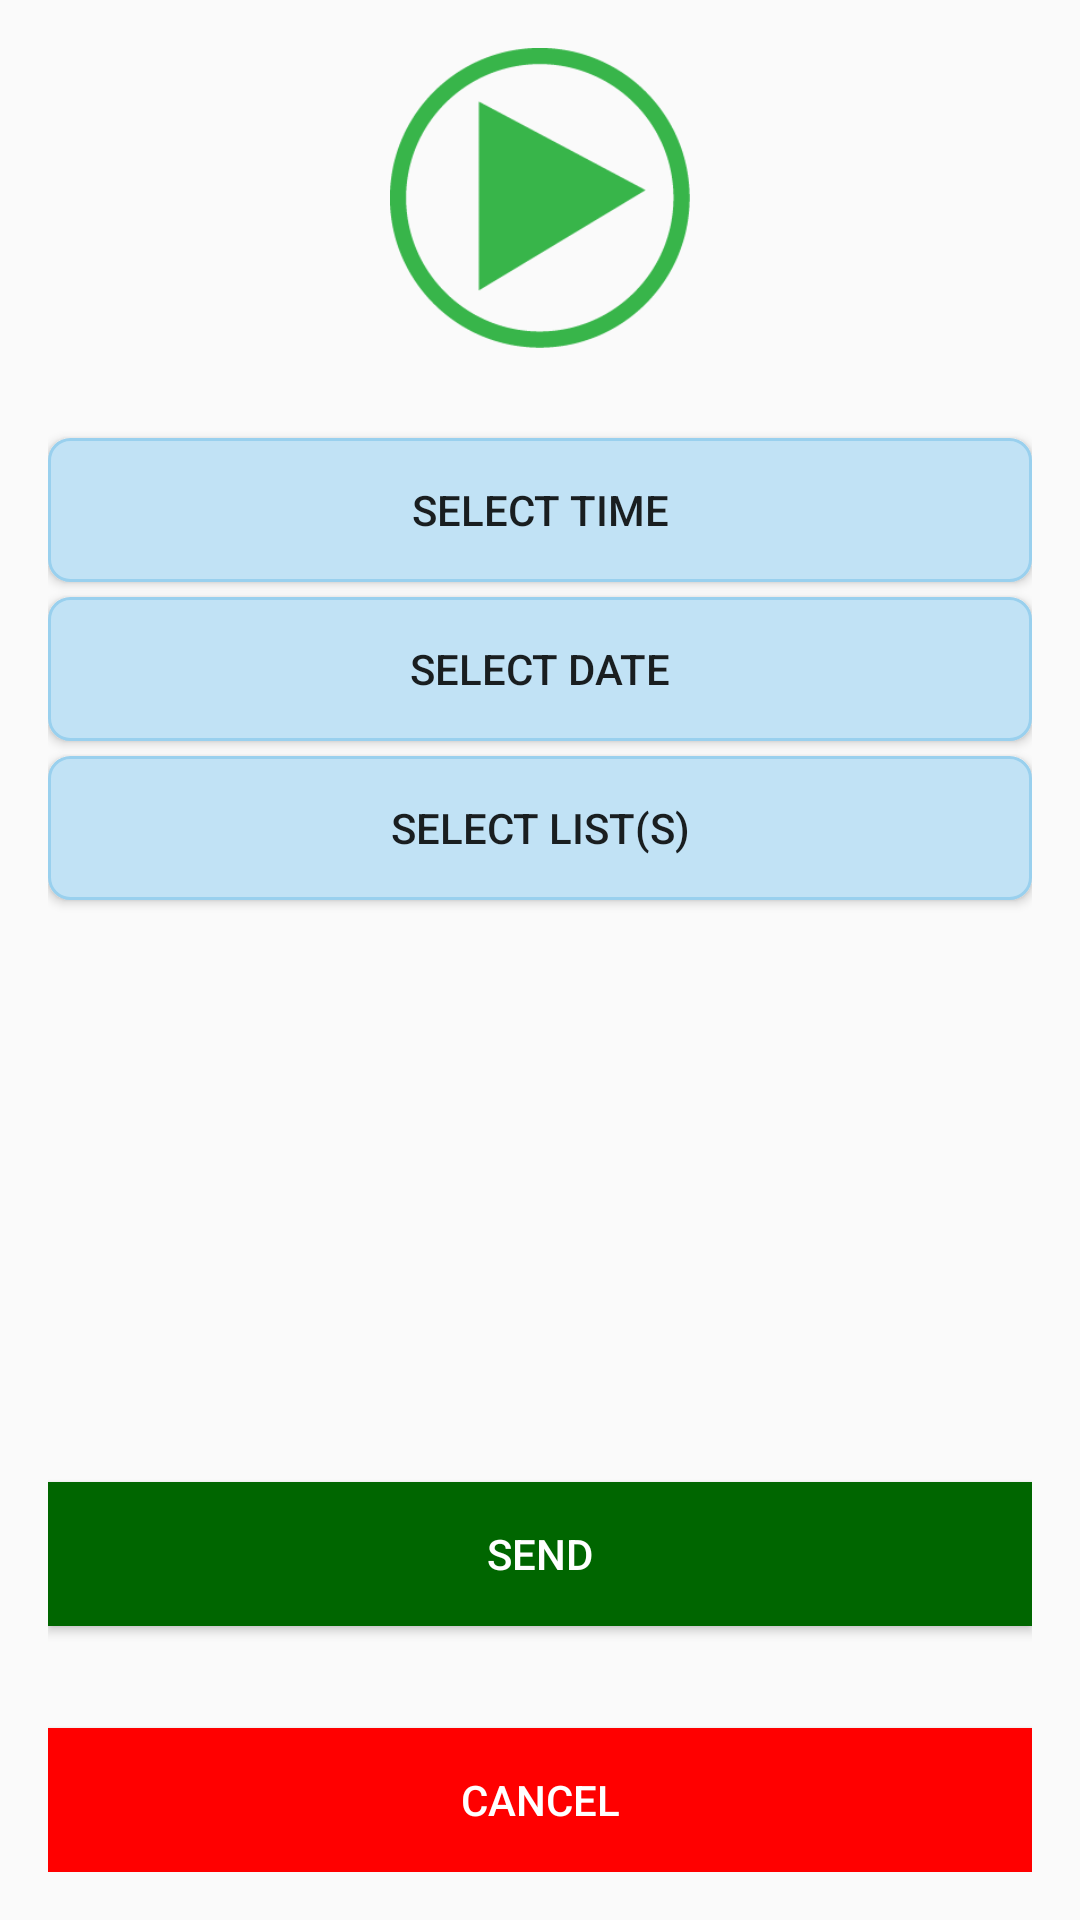

Named icons in this screenshot (1080px x 1920px) and their bounding boxes, (x1, y1, x2, y2):
play sound: (390, 48, 690, 348)
